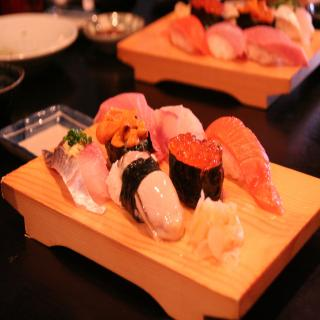Sushi: (46, 91, 284, 239), (162, 0, 314, 65), (170, 132, 224, 212)
